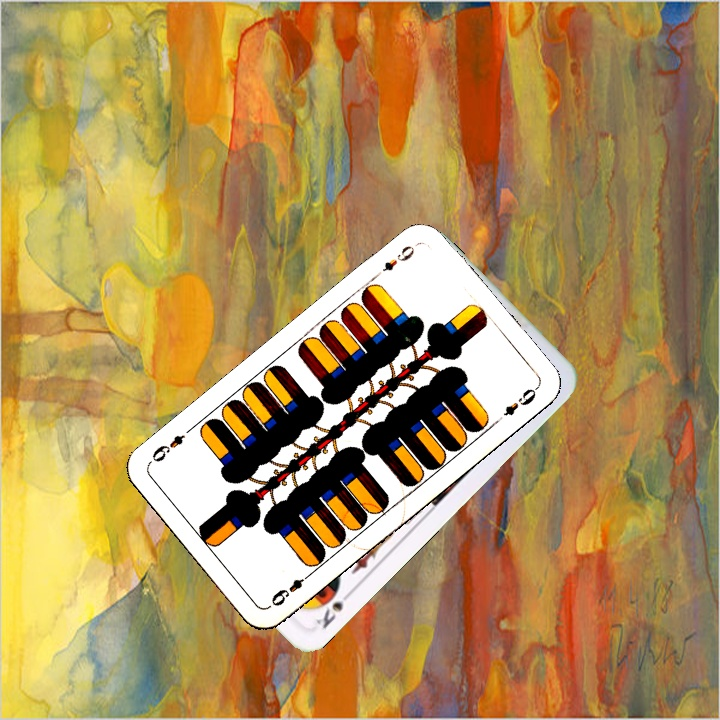E9: (267, 568, 315, 609), (378, 239, 420, 275)
SK: (312, 585, 356, 632)
